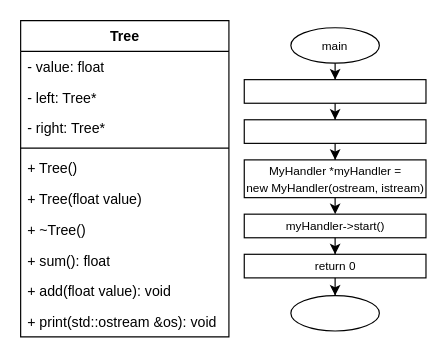
Image size: 447x361. Some labels were removed from this diagram. The centre of each missing label's shape, as x and y in pixels:
"std::istream &istream = std::cin" belongs at (x=334, y=131).
"std::ostream &ostream = std::cout" belongs at (x=334, y=90).
"Конец" belongs at (x=334, y=312).
